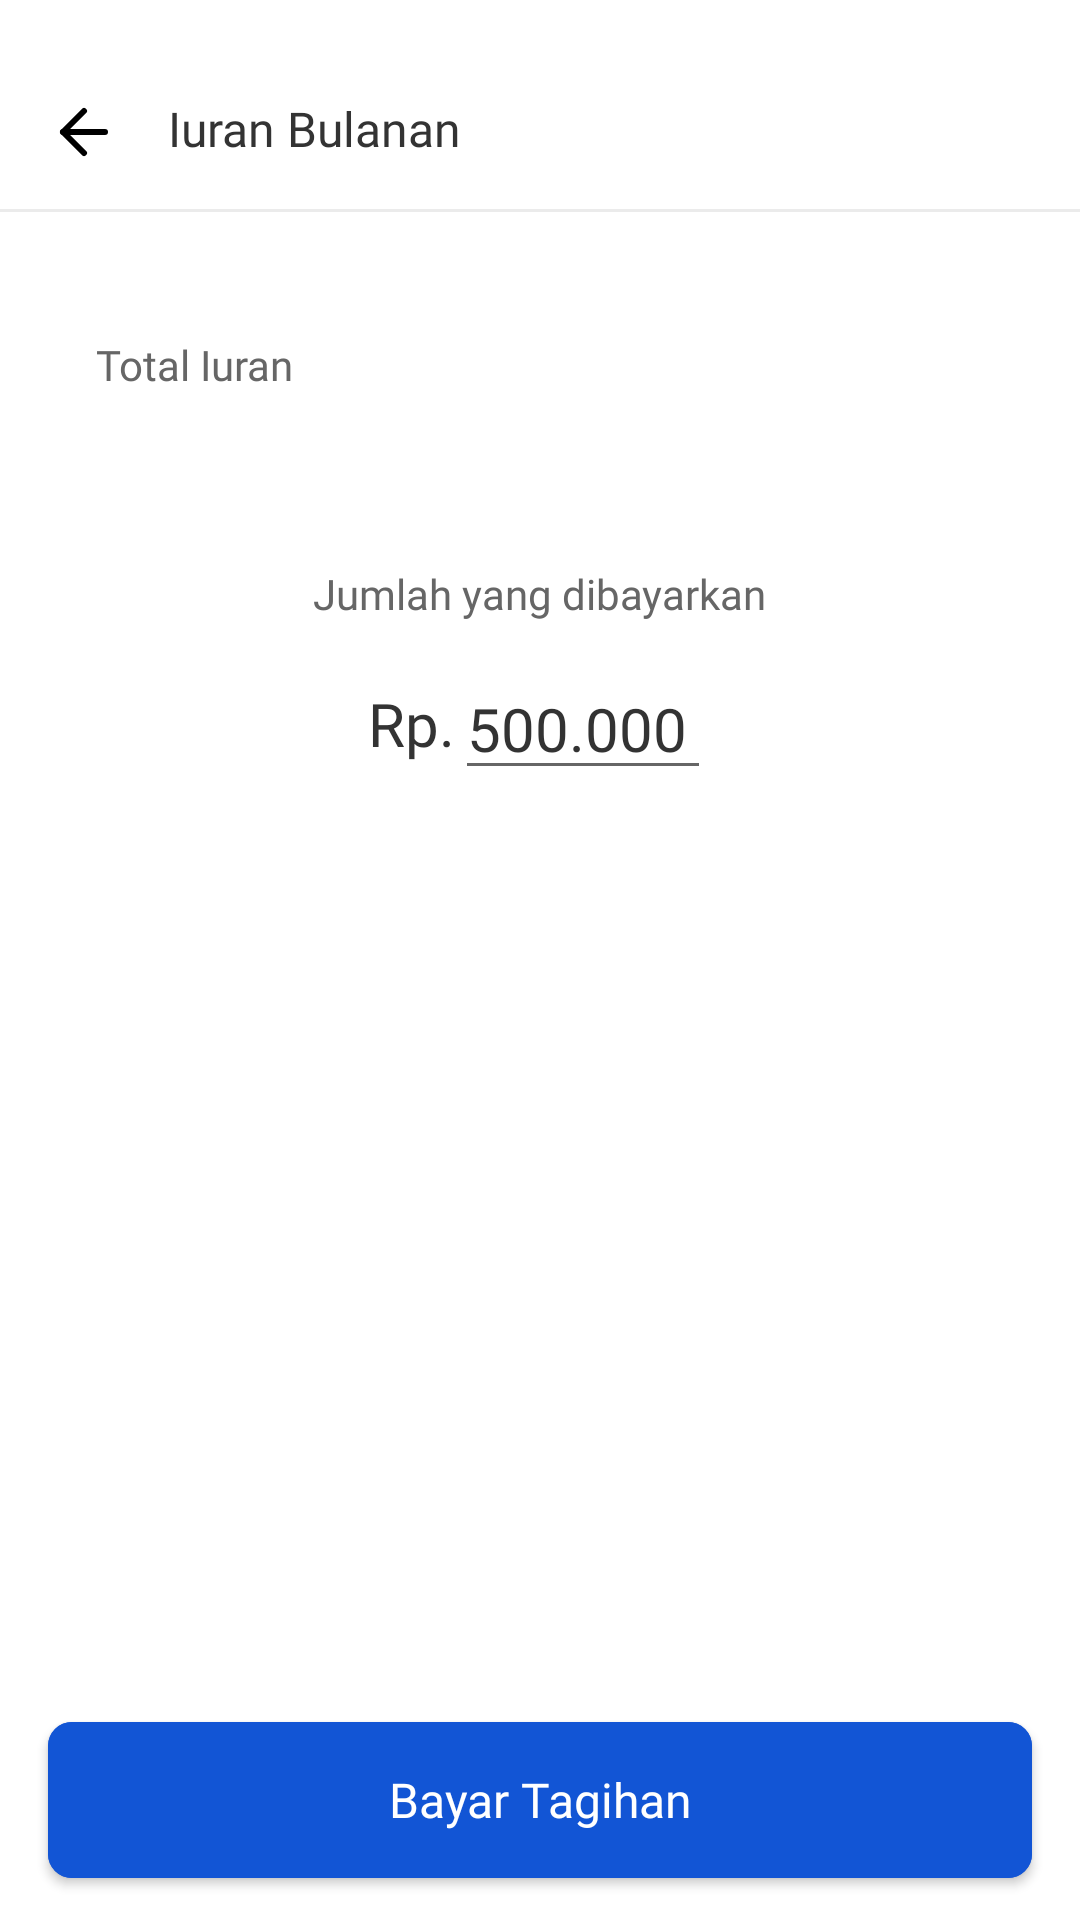

Where icons sit on this 1080 × 1920 app screen, as (x1, y1, x2, y2):
back: (60, 108, 108, 156)
